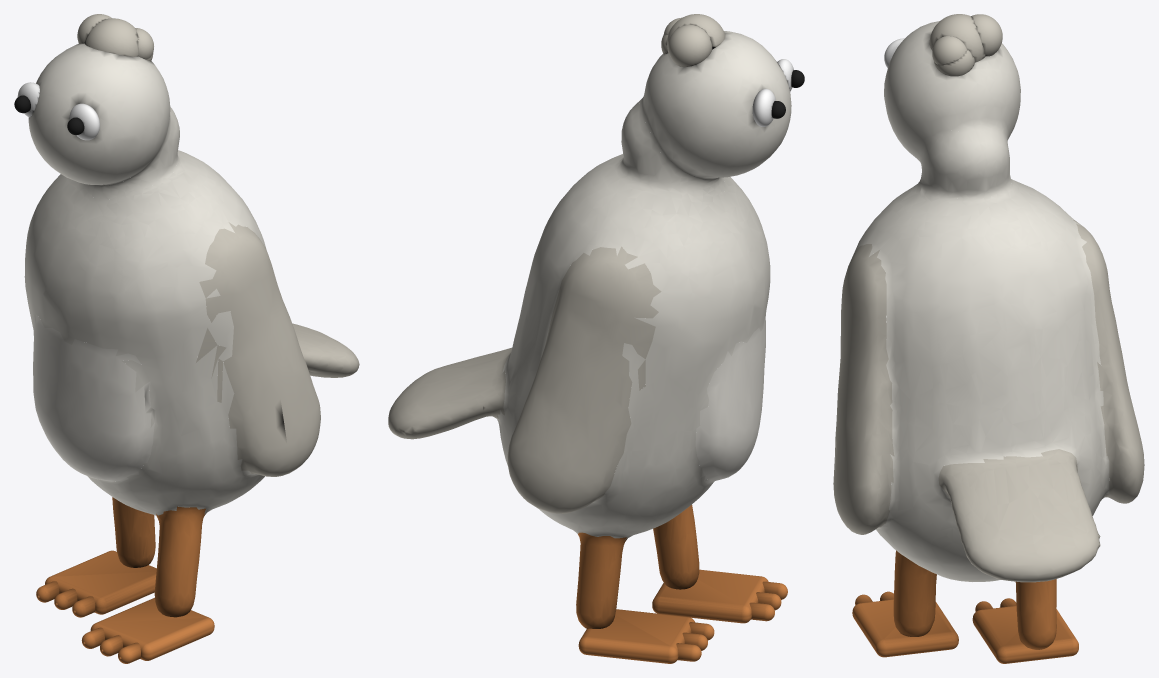
The model's file is var-kan-jag-kopa-biljett.glb.
3 renders of one model, left to right at view 1: azimuth 30°, elevation 25°; view 2: azimuth 150°, elevation 25°; view 3: azimuth 270°, elevation 25°, orthographic.
Parts seen in each view (by area): view 1: pelicano__r0, pelicano__r14, pelicano__r1, pelicano__r2, pelicano__r10; view 2: pelicano__r0, pelicano__r1, pelicano__r14, pelicano__r3, pelicano__r2, pelicano__r8; view 3: pelicano__r0, pelicano__r14, pelicano__r1, pelicano__r2, pelicano__r3, pelicano__r4, pelicano__r7.
Boxes of the visible parts, x1=… form: pelicano__r0: x1=24, y1=43, x2=359, y2=617; pelicano__r14: x1=90, y1=597, x2=214, y2=660; pelicano__r1: x1=45, y1=550, x2=156, y2=614; pelicano__r2: x1=84, y1=18, x2=138, y2=56; pelicano__r10: x1=69, y1=103, x2=99, y2=140; pelicano__r0: x1=388, y1=31, x2=791, y2=628; pelicano__r1: x1=578, y1=609, x2=694, y2=663; pelicano__r14: x1=652, y1=569, x2=768, y2=623; pelicano__r3: x1=668, y1=24, x2=712, y2=66; pelicano__r2: x1=667, y1=14, x2=725, y2=54; pelicano__r8: x1=752, y1=88, x2=775, y2=126; pelicano__r0: x1=833, y1=21, x2=1144, y2=649; pelicano__r14: x1=852, y1=599, x2=958, y2=657; pelicano__r1: x1=972, y1=605, x2=1078, y2=663; pelicano__r2: x1=929, y1=14, x2=985, y2=62; pelicano__r3: x1=971, y1=14, x2=1002, y2=56; pelicano__r4: x1=932, y1=36, x2=967, y2=65; pelicano__r7: x1=934, y1=50, x2=974, y2=76.
Size of the model in its own units: 0.9718 by 1.57 by 0.7243.
